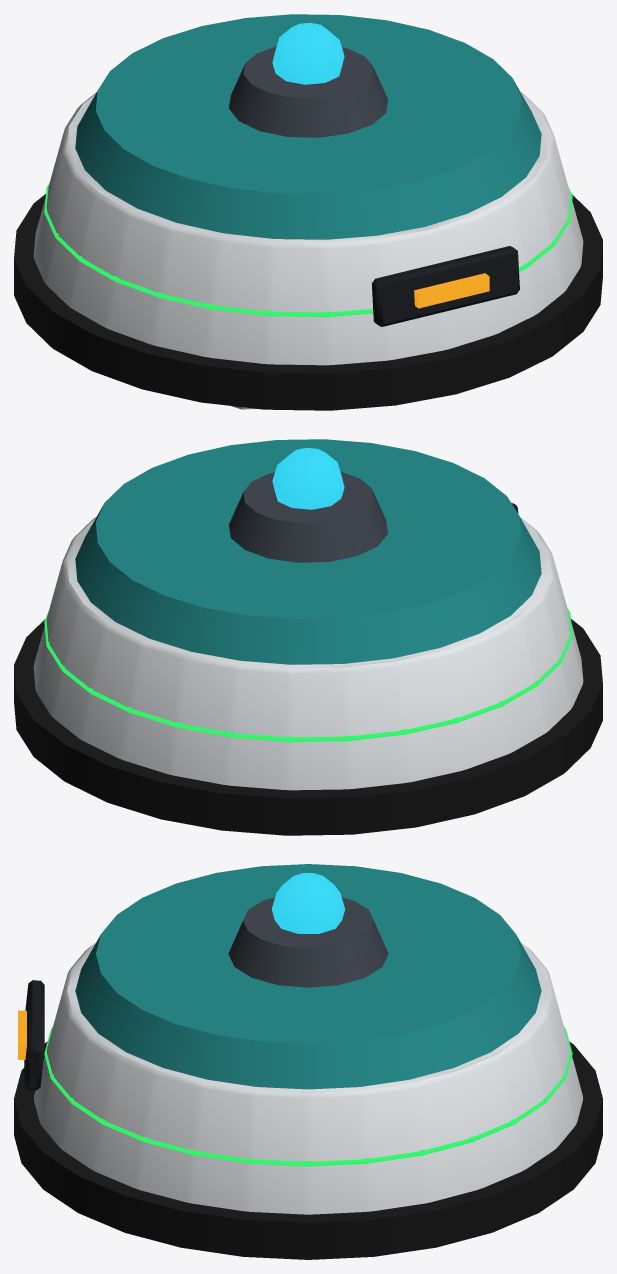
The model's file is cleaningbot_floor_scrubber_disc.glb.
3 views of the same model, one above another, from view 1: azimuth 30°, elevation 25°; view 2: azimuth 150°, elevation 25°; view 3: azimuth 270°, elevation 25° (orthographic).
Visible parts, largest first — view 1: cleaningbot_floor_scrubber_disc; view 2: cleaningbot_floor_scrubber_disc; view 3: cleaningbot_floor_scrubber_disc.
Boxes of the visible parts, x1=… form: cleaningbot_floor_scrubber_disc: x1=14, y1=14, x2=602, y2=410; cleaningbot_floor_scrubber_disc: x1=14, y1=439, x2=602, y2=835; cleaningbot_floor_scrubber_disc: x1=14, y1=864, x2=602, y2=1259.
Bounding box in the file's own units: 0.72 × 0.375 × 0.72.
